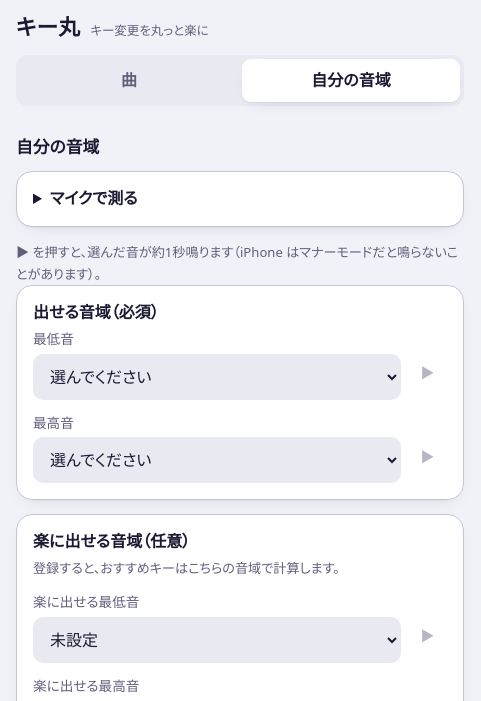
Test case: 印と絞り込み（⑦） › 音域が未登録なら「原曲キーで歌える」は出さない
This screenshot has width=481, height=701.
Click the button "曲" at point(129, 80), box [20,58,238,102]
(page scrolled)
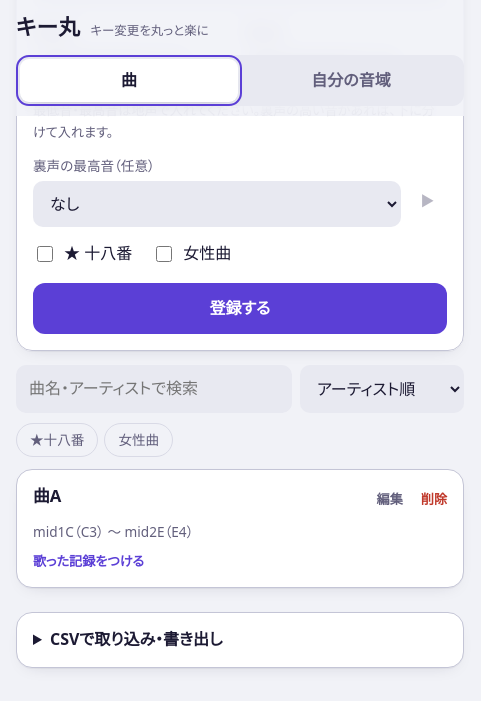
Now the button "★十八番" is shown, box [16,423,98,457]
